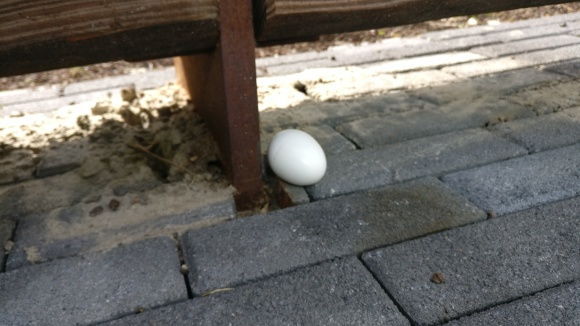egg: (265, 127, 328, 186)
